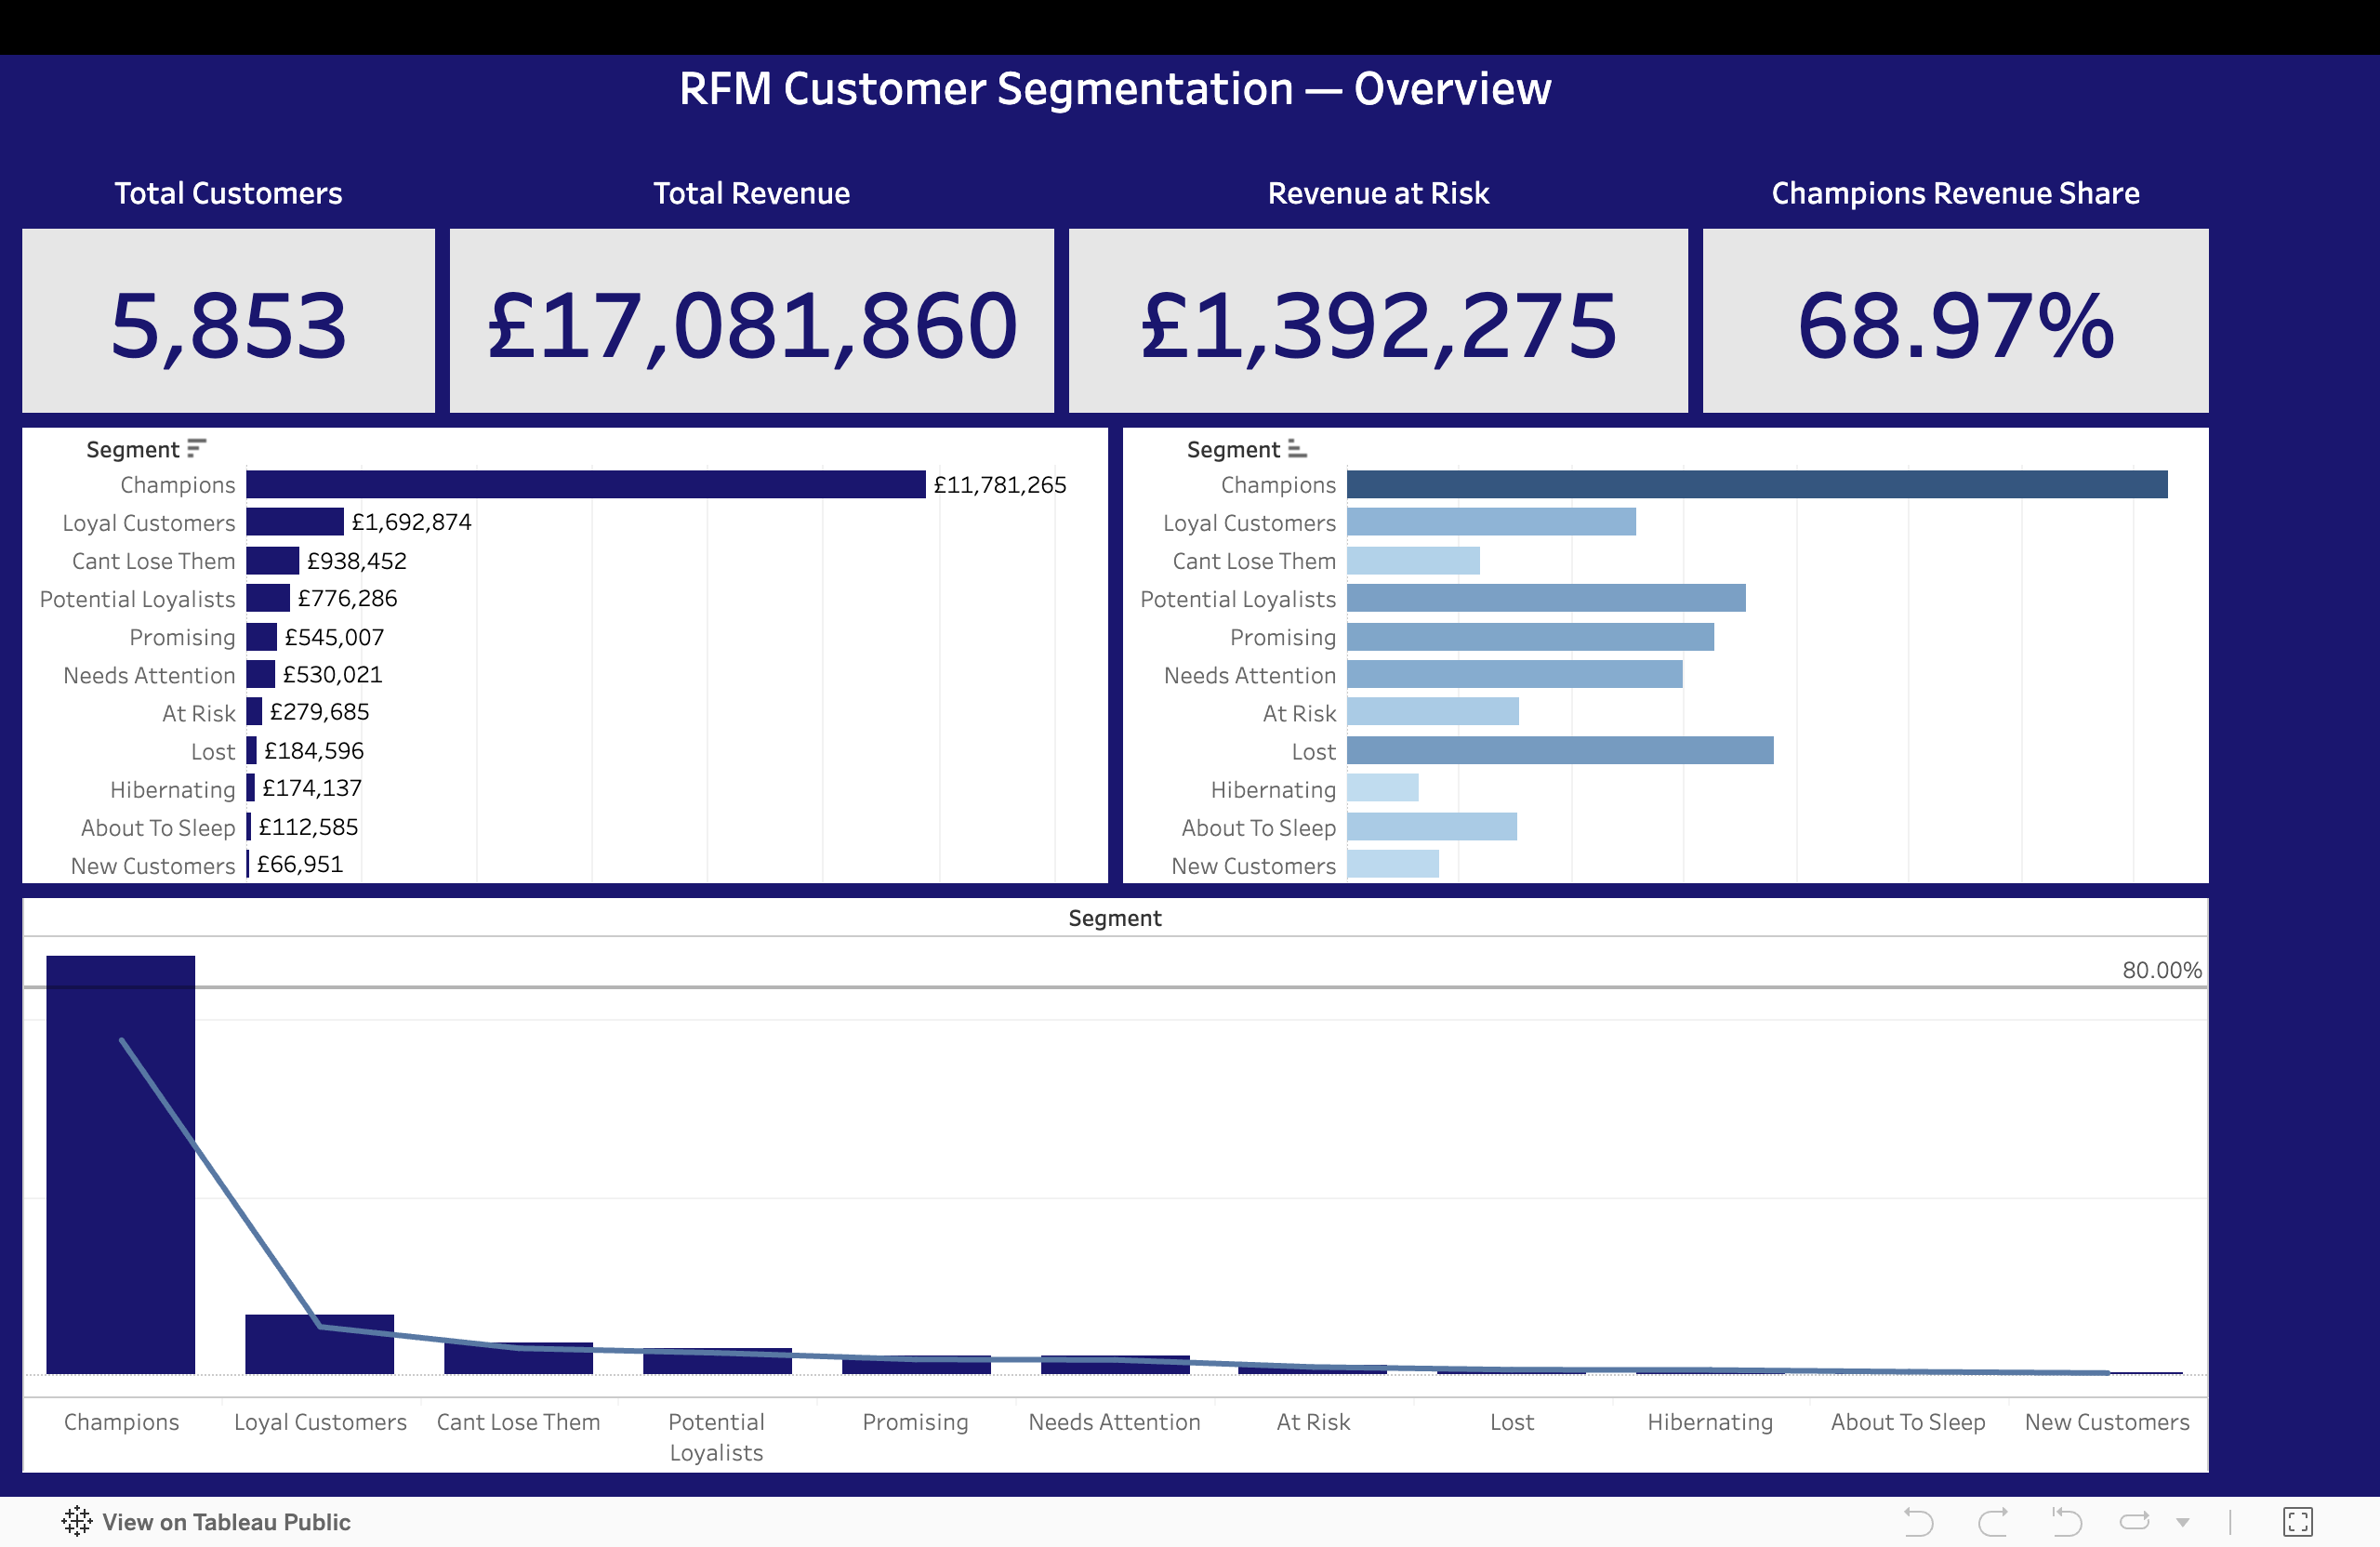

This screenshot's page, from the dashboard's own definition file:
{"tool":"tableau","page":{"name":"Segment Overview","canvas":[1200,800],"ordinal":1},"visuals":[{"type":"text","box":[8,8,1184,69]},{"type":"worksheet","title":"KPI Total Customers","mark":"Automatic","box":[8,77,230,144.8]},{"type":"worksheet","title":"KPI Total Revenue","mark":"Automatic","box":[238,77,333,144.8]},{"type":"worksheet","title":"KPI Revenue at Risk","mark":"Automatic","box":[571,77,341,144.8]},{"type":"worksheet","title":"KPI Champions Share","mark":"Automatic","box":[912,77,280,144.8]},{"type":"worksheet","title":"Segment Revenue","mark":"Automatic","rows":["segment"],"cols":["monetary"],"box":[8,221.8,592,253.2]},{"type":"worksheet","title":"Segment Size","mark":"Automatic","rows":["segment"],"cols":["customer_id"],"box":[600,221.8,592,253.2]},{"type":"worksheet","title":"Revenue Concentration","mark":"Automatic","rows":["monetary","monetary"],"cols":["segment"],"box":[8,475,1184,317]}]}

Visuals, with their boxes in screenshot pixels (x1, y1, x2, y2):
text: 21,27,2202,154
"KPI Total Customers" worksheet: 21,154,444,421
"KPI Total Revenue" worksheet: 444,154,1058,421
"KPI Revenue at Risk" worksheet: 1058,154,1686,421
"KPI Champions Share" worksheet: 1686,154,2202,421
"Segment Revenue" worksheet: 21,421,1112,888
"Segment Size" worksheet: 1112,421,2202,888
"Revenue Concentration" worksheet: 21,888,2202,1472
